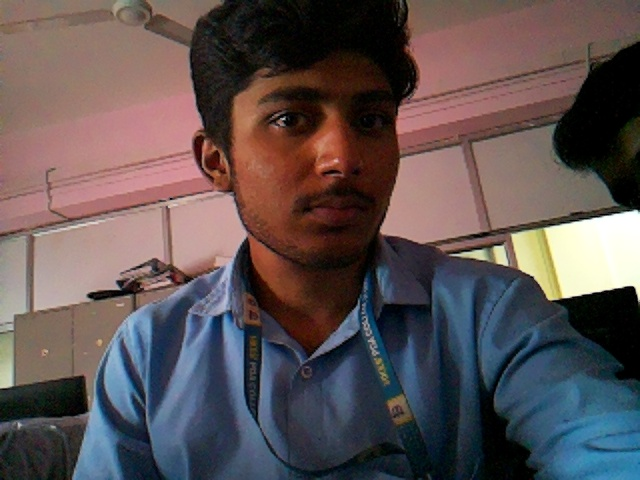Vaibhav: (189, 2, 423, 274)
